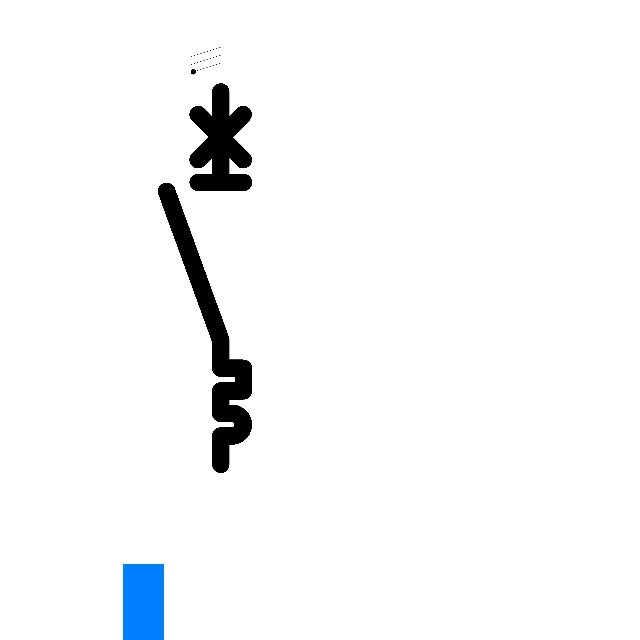interruptor_termomagnetico: (157, 82, 253, 474)
